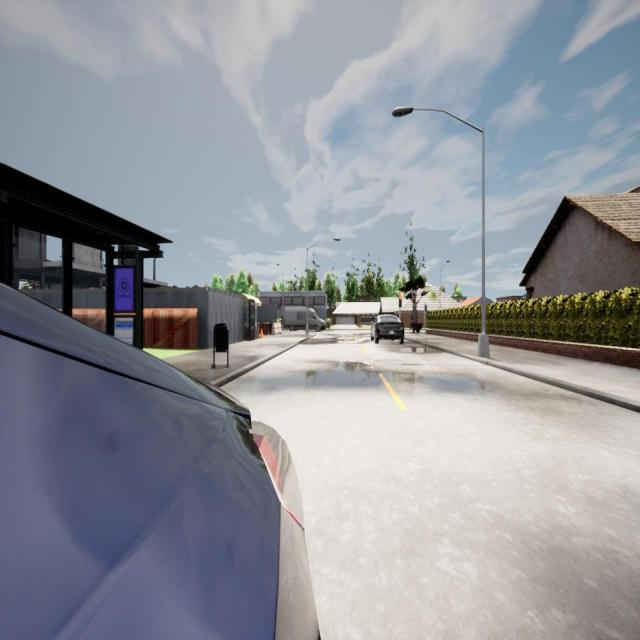Vehicle: (0, 283, 318, 637), (283, 306, 327, 332), (370, 314, 405, 343)
traffic_light: (399, 296, 402, 307), (425, 305, 427, 312)
